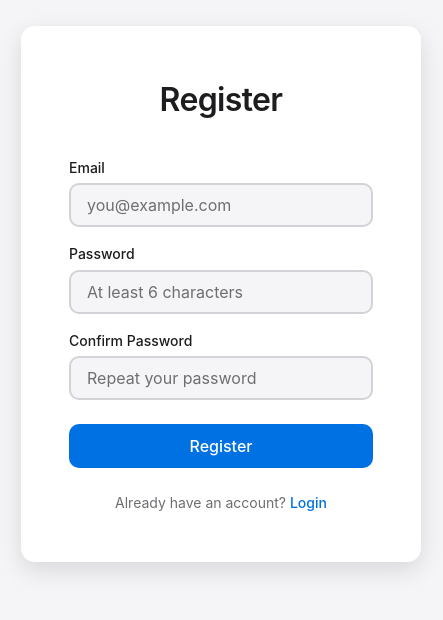
RegisterPage › shows error when password is too short
Type "test@test.com" into the field labelled "Email".
click(221, 205); type("test@test.com")  # box [69,183,373,227]
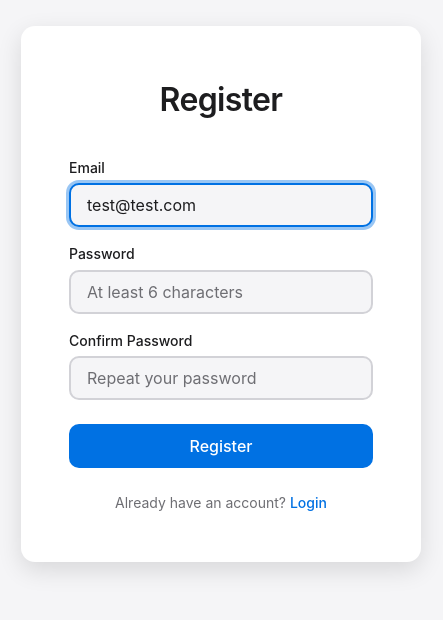
Type "12345" into the password field labelled "Password".
click(221, 292); type("12345")  # box [69,270,373,314]
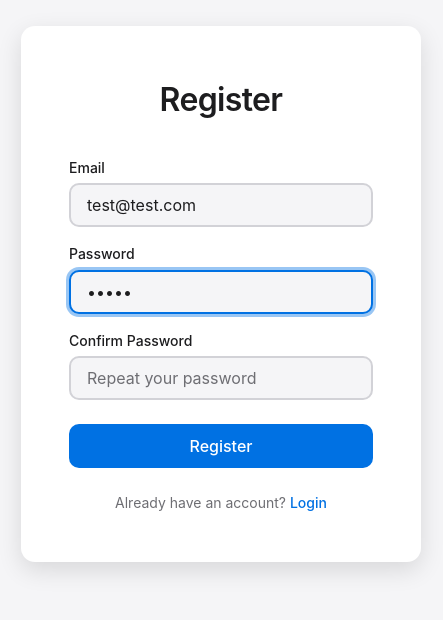
Type "12345" into the password field labelled "Confirm Password".
click(221, 378); type("12345")  # box [69,356,373,400]
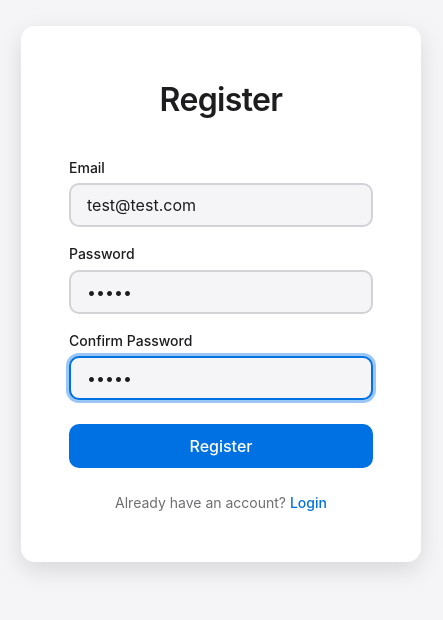
Click the button "Register".
click(221, 446)  # box [69,424,373,468]
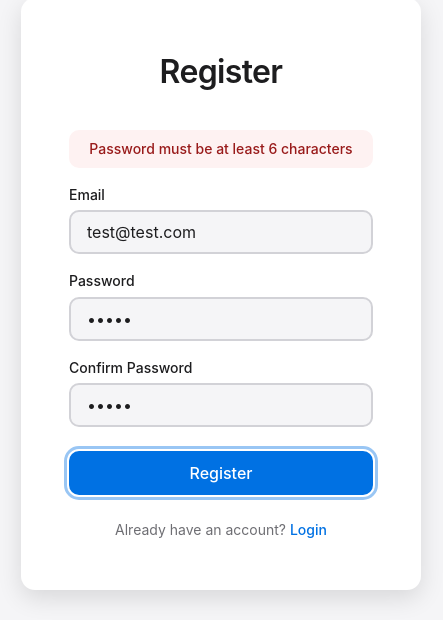
Check: the message reads "Password must be at least 6 characters", box [89,140,353,157]
